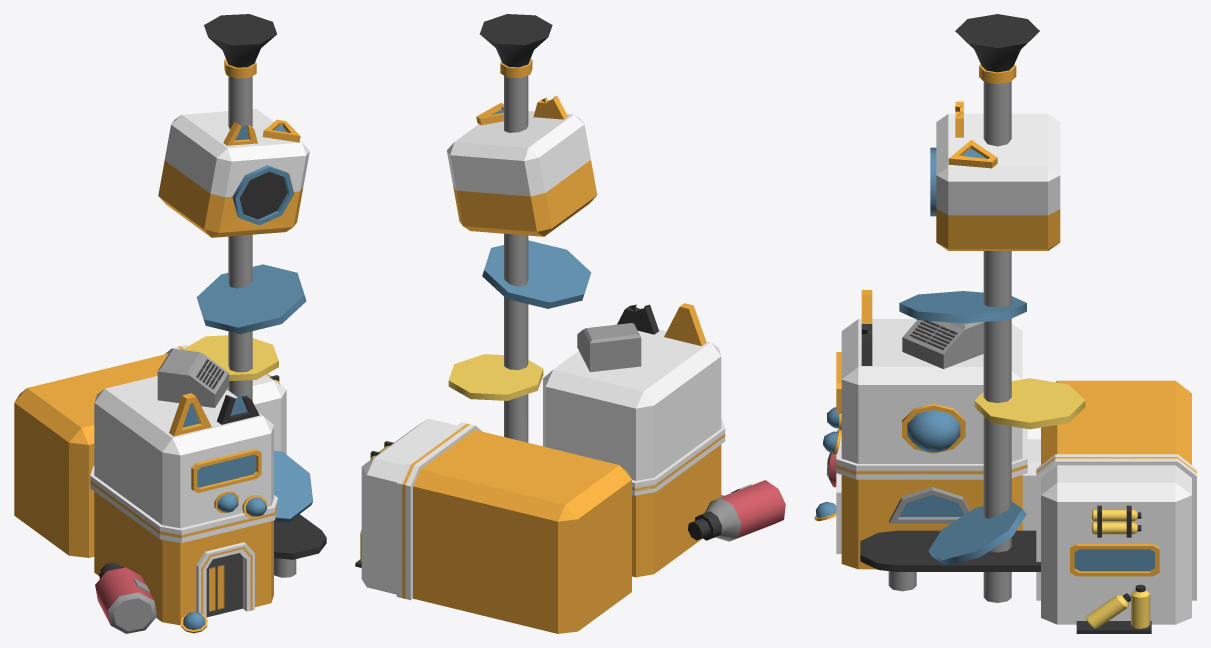
The model's file is M_cattowerB.fbx.
The picture shows the model from 3 angles, left to right: view 1: azimuth 30°, elevation 25°; view 2: azimuth 150°, elevation 25°; view 3: azimuth 270°, elevation 25°; orthographic projection. The views are drawn at different scales.
Parts seen in each view (by area): view 1: Box001; view 2: Box001; view 3: Box001.
Part boxes in pixels (<box>): Box001: <box>14,14,326,633</box>; Box001: <box>355,14,785,633</box>; Box001: <box>814,14,1196,633</box>.
Bounding box in the file's own units: 12481 × 21220 × 12997.
